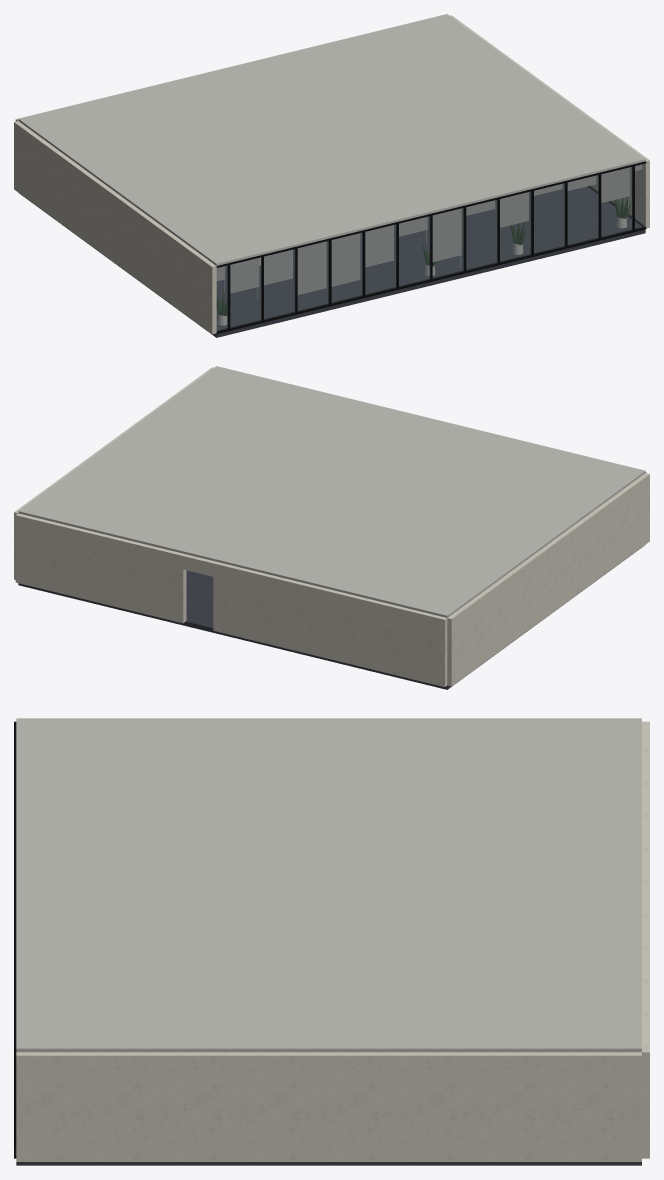
Rendered from harbor_f14_baked.glb.
3 renders of one model, top to bottom at view 1: azimuth 30°, elevation 25°; view 2: azimuth 150°, elevation 25°; view 3: azimuth 270°, elevation 25°, orthographic. The views are drawn at different scales.
Parts seen in each view (by area): view 1: Office_F14_Shell.001, Window_Blinds_Baked, F14_Plants_Baked; view 2: Office_F14_Shell.001; view 3: Office_F14_Shell.001.
Part boxes in pixels (left/top/right/bottom): Office_F14_Shell.001: left=14, top=14, right=649, bottom=337; Window_Blinds_Baked: left=216, top=164, right=642, bottom=298; F14_Plants_Baked: left=422, top=222, right=525, bottom=276; Office_F14_Shell.001: left=14, top=366, right=649, bottom=689; Office_F14_Shell.001: left=14, top=718, right=649, bottom=1165.
Size of the model in its own units: 20.4 by 3.3 by 16.26.
Materials: 56 (15 with a texture image).
